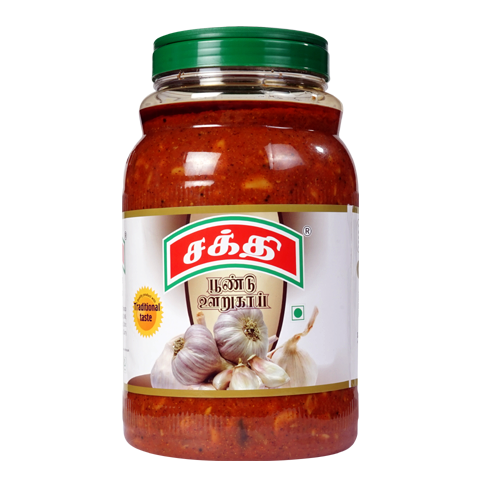VEG: (290, 304, 306, 323)
